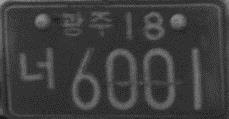0: (141, 46, 176, 111), (104, 47, 139, 111)
1: (188, 45, 206, 113), (123, 9, 134, 40)
6: (69, 46, 101, 109)
8: (142, 10, 165, 41)
광주_O: (59, 9, 113, 39)
너: (18, 44, 56, 92)
